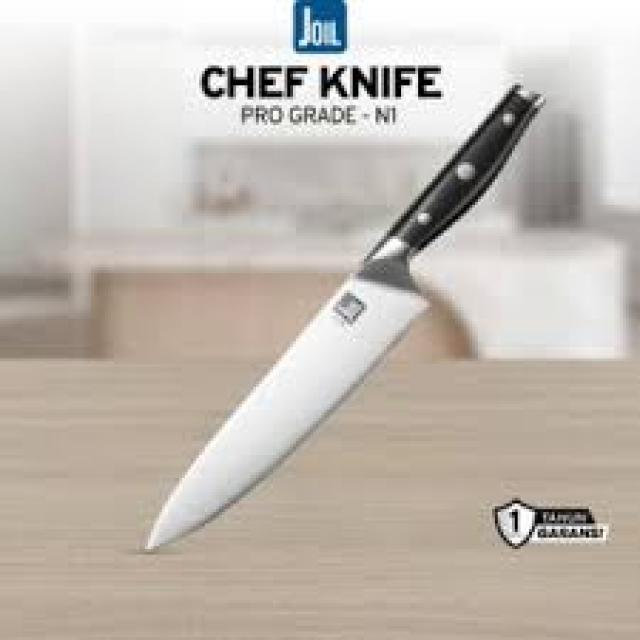Knife: (139, 82, 543, 555)
